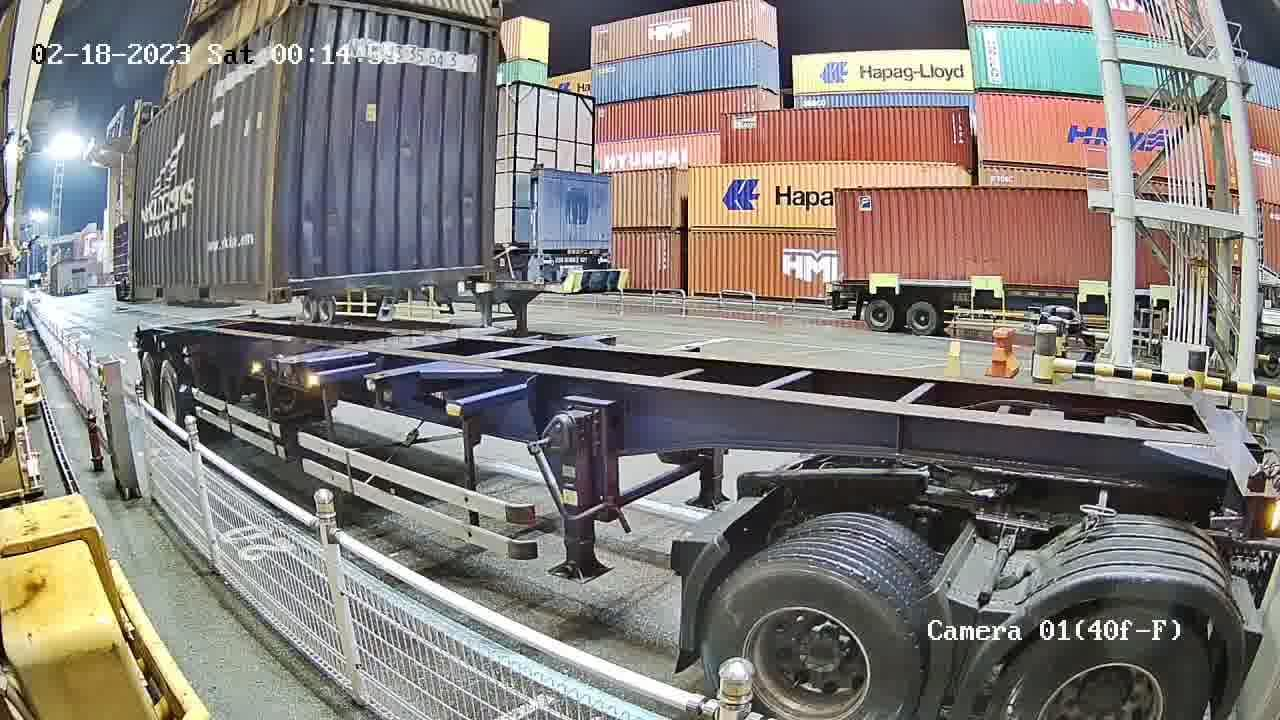Chassis: (288, 327, 513, 370), (269, 322, 498, 358)
Cone: (286, 352, 305, 392), (264, 351, 283, 385)
Hole_L: (273, 269, 310, 303)
Hole_R: (252, 271, 273, 303), (473, 256, 498, 282)
Tire: (159, 359, 184, 423), (139, 355, 158, 405)
